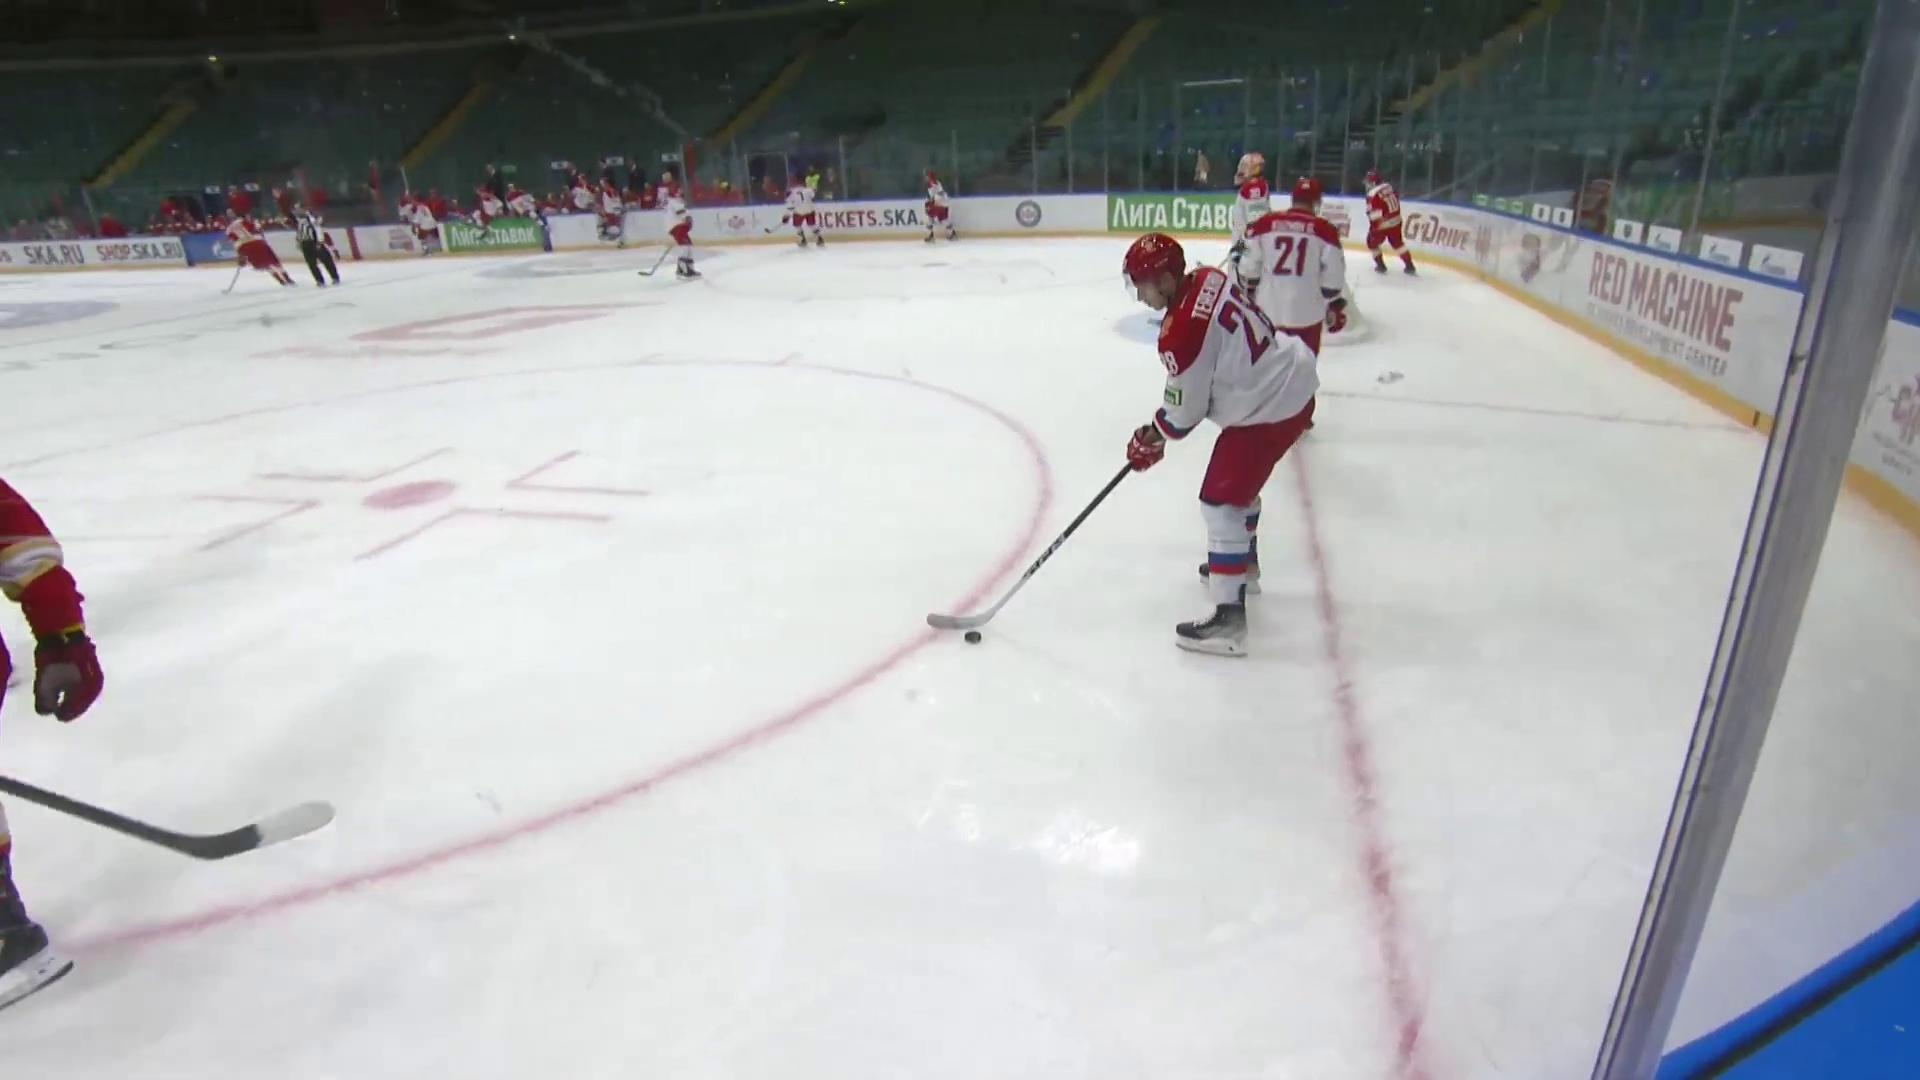ball: (964, 628, 982, 647)
